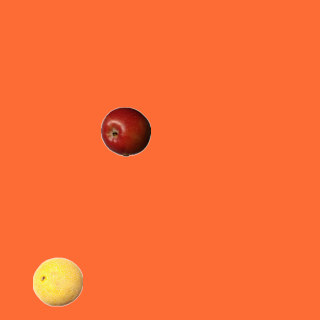Apple Braeburn: (100, 106, 150, 156)
Cantaloupe 1: (32, 256, 82, 306)
